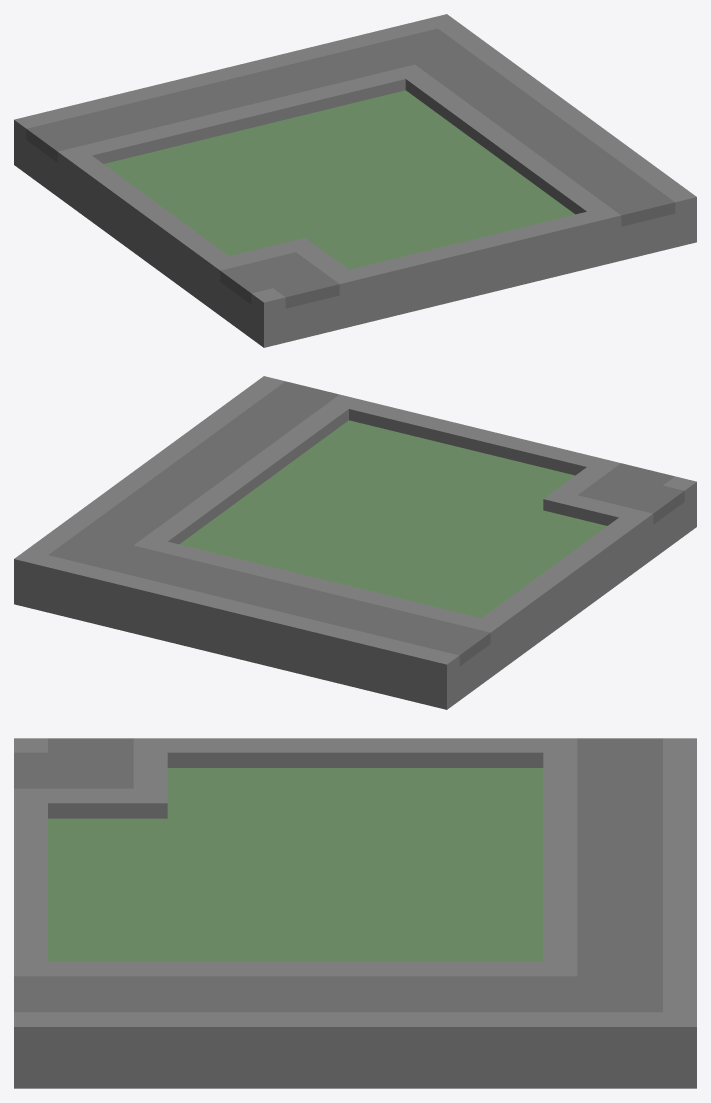
File: CWP4.vox.obj
3 views of the same model, one above another, from view 1: azimuth 30°, elevation 25°; view 2: azimuth 150°, elevation 25°; view 3: azimuth 270°, elevation 25° (orthographic). The views are drawn at different scales.
Bounding box in the file's own units: 4 × 0.4 × 4.
1 material, 1 textured.
